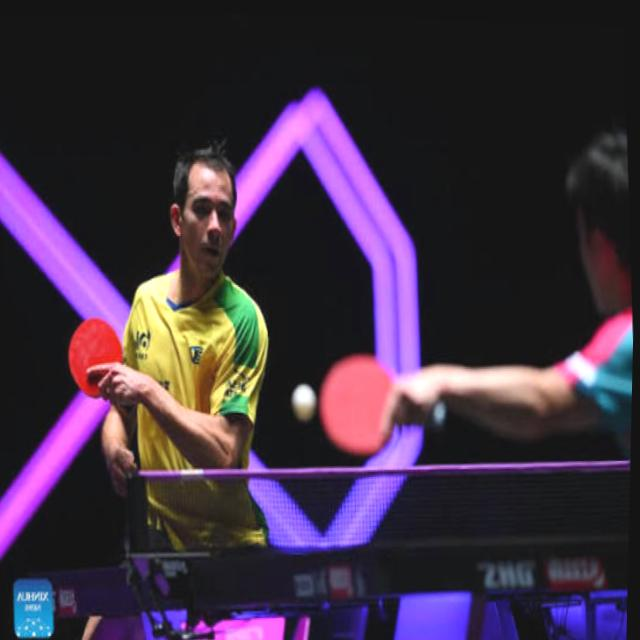TT Net: (124, 460, 630, 562)
TT Racket: (306, 334, 420, 469), (55, 305, 138, 408)
